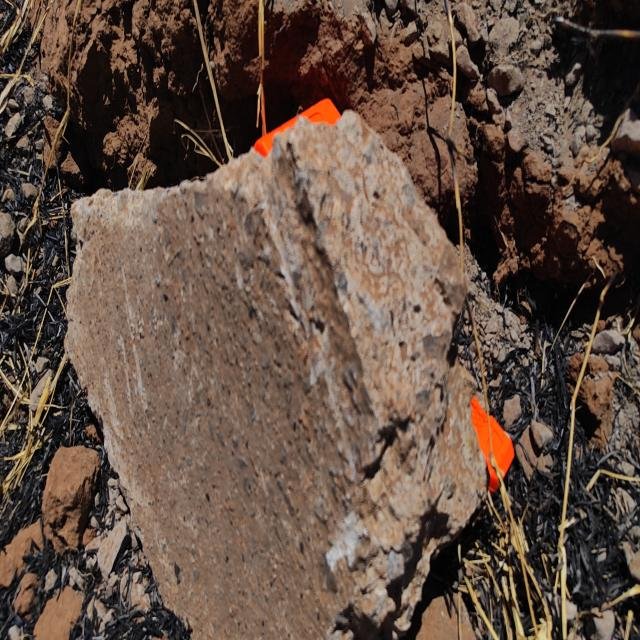Orange_hammer: (459, 380, 518, 503), (255, 94, 346, 161)
rock: (55, 182, 482, 640)
